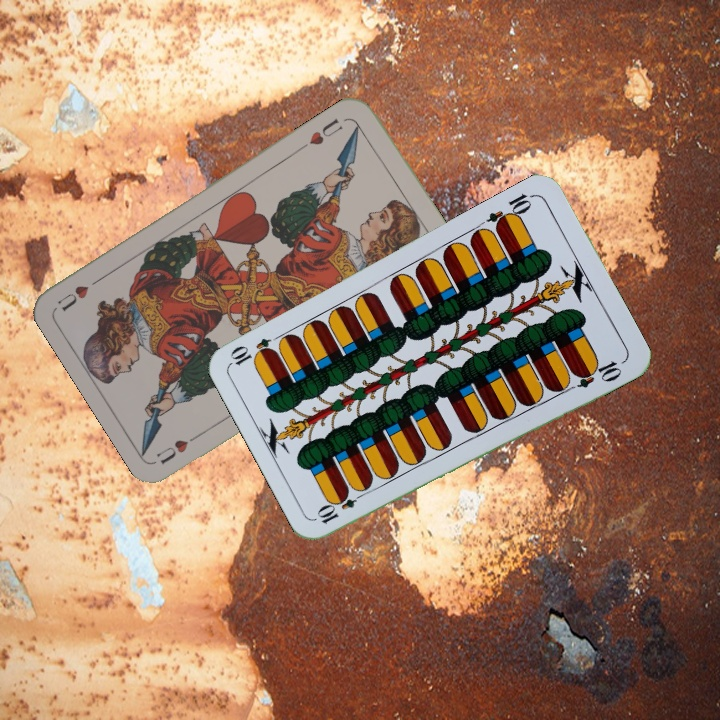E10: (483, 189, 537, 233), (313, 486, 369, 527)
HU: (152, 428, 206, 467), (305, 114, 346, 148)
